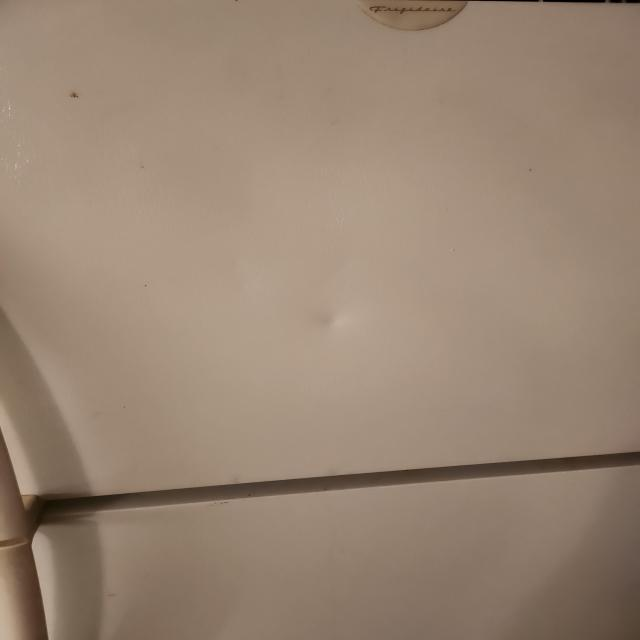dents: (282, 282, 388, 354)
